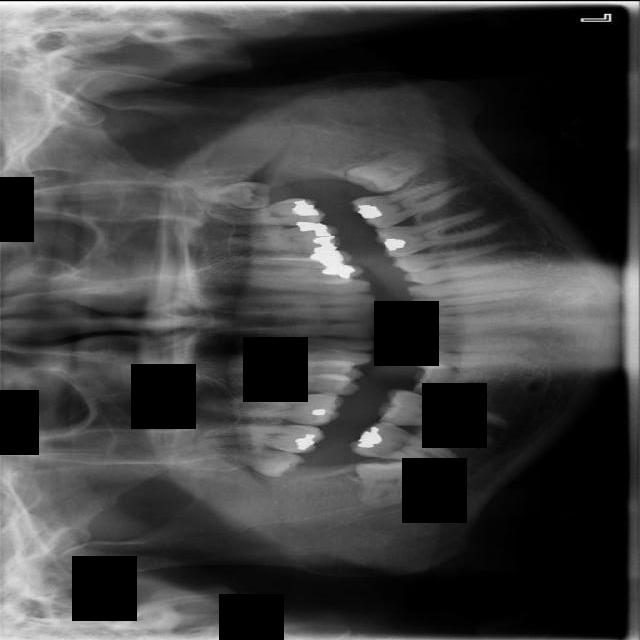3M ESPE Implant: (229, 441, 306, 481)
52: (347, 409, 409, 469), (347, 181, 408, 240), (293, 382, 346, 436), (296, 218, 341, 257), (272, 422, 324, 454), (374, 226, 421, 258), (278, 197, 326, 226), (322, 264, 366, 285), (313, 248, 355, 270)
73: (238, 253, 317, 267), (572, 36, 592, 42)
BioHorizons Implant: (214, 198, 325, 225)
BioLife Implant: (189, 179, 271, 210)
Biomet 3i Implant: (345, 143, 432, 202)
Blue Sky Bio Implant: (346, 175, 470, 234)
Caries: (198, 421, 324, 453)
Implant: (348, 414, 465, 474)
Keystone Dental Implant: (358, 458, 422, 504)
